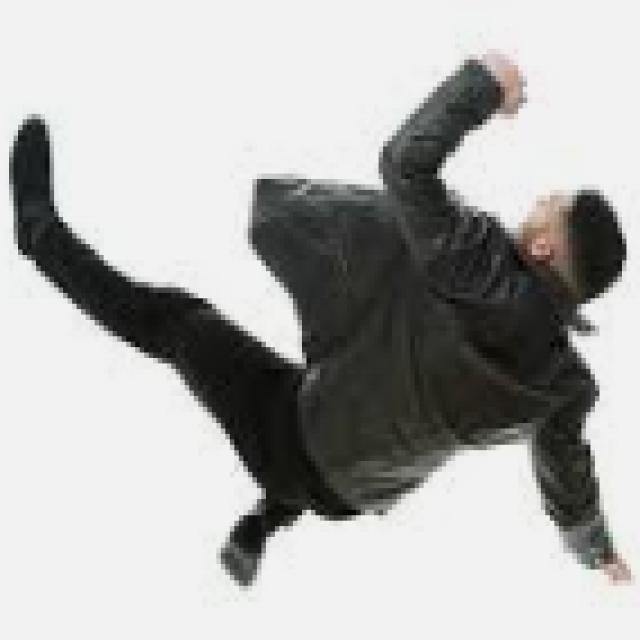fall: (12, 35, 626, 600)
